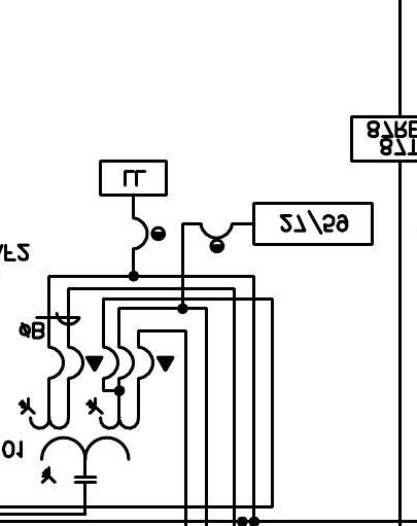115_cvt_3p: (17, 396, 141, 484)
LL: (99, 159, 168, 197)
